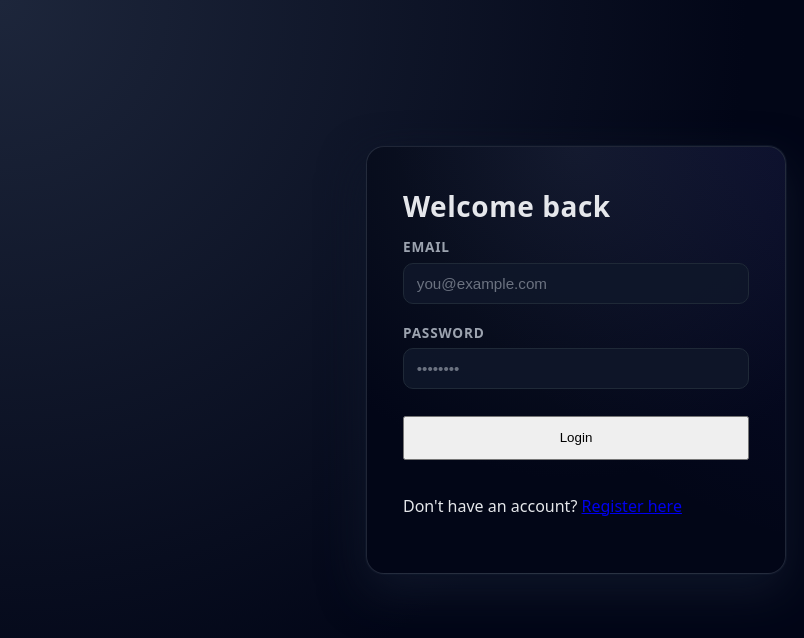
Test: AuthPage › shows validation error when submitting empty form
Step 1. Click the button with test id "button-login" → (576, 438), box [403,416,749,460]
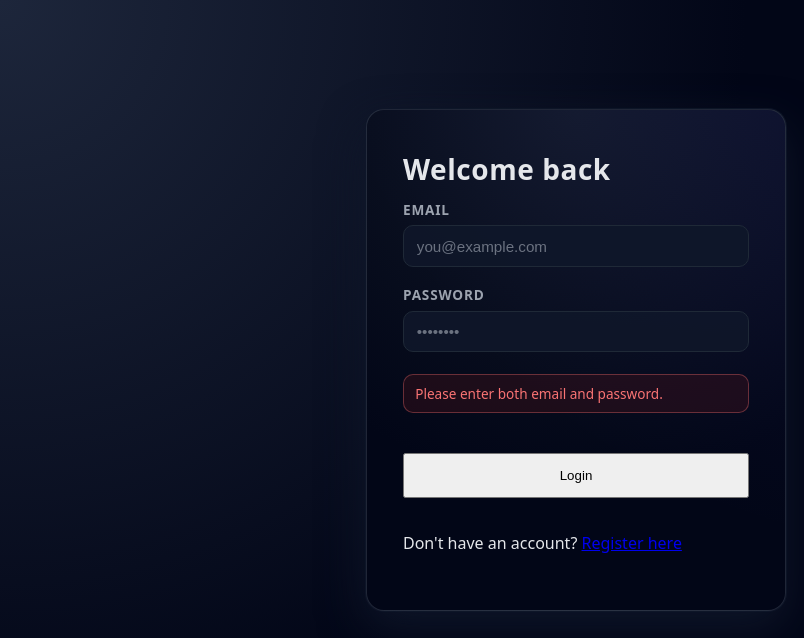
Expected: the text "Please enter both email and password." is shown, [403,374,749,413]
